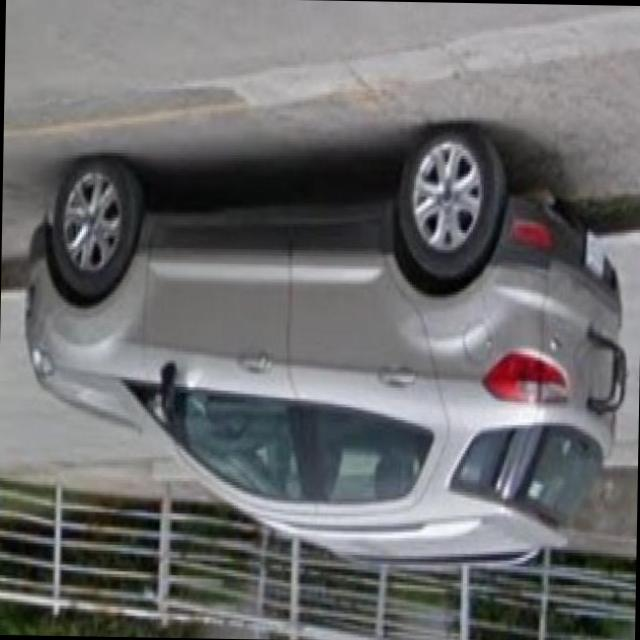car: (21, 121, 630, 574)
